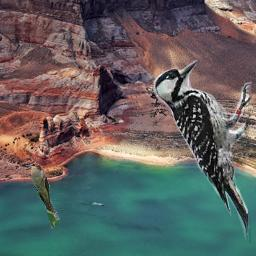Cuckoo: (25, 163, 60, 229)
Woodpecker: (152, 60, 255, 244)
